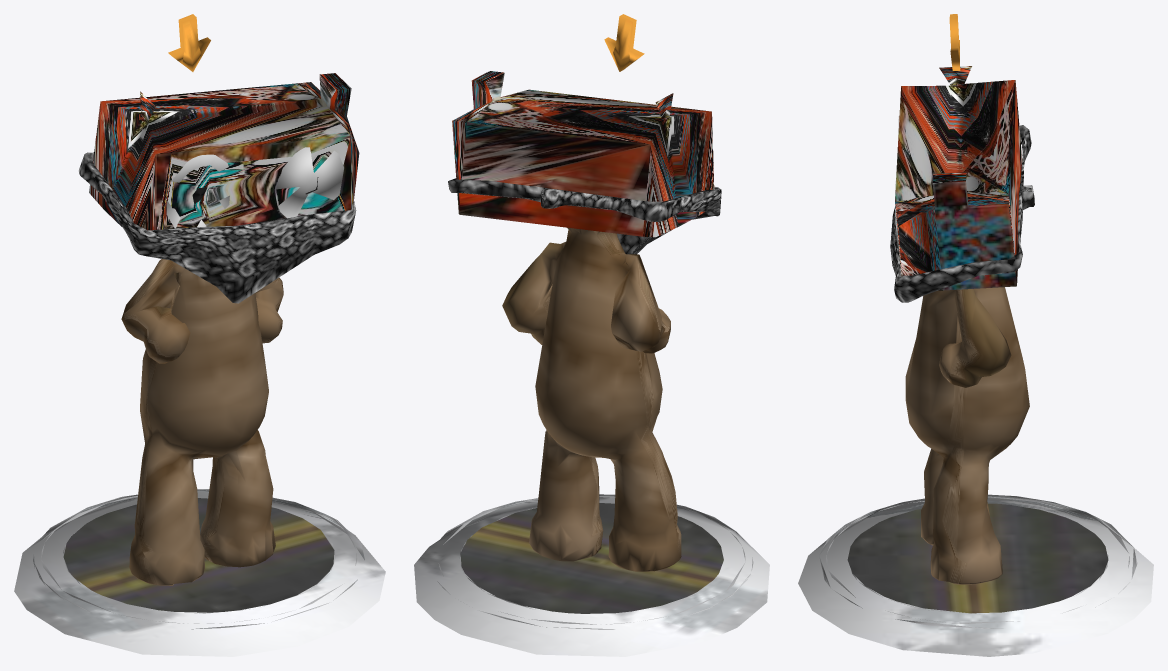
3 renders of one model, left to right at view 1: azimuth 30°, elevation 25°; view 2: azimuth 150°, elevation 25°; view 3: azimuth 270°, elevation 25°, orthographic. The views are drawn at different scales.
Bounding box in the file's own units: 1.44 × 2.46 × 1.43.
Materials: 8 (6 with a texture image).
